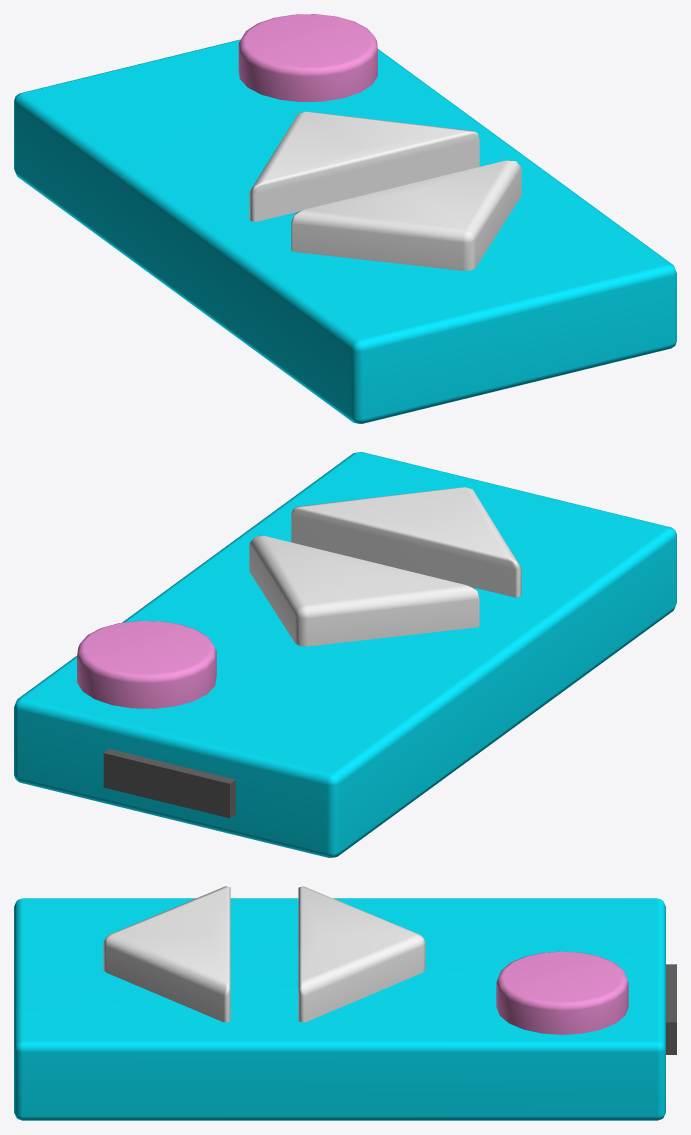
Rendered from LoopDreams_VR_Assets_R4_TVRemote_edit.fbx.
3 renders of one model, top to bottom at view 1: azimuth 30°, elevation 25°; view 2: azimuth 150°, elevation 25°; view 3: azimuth 270°, elevation 25°, orthographic. The views are drawn at different scales.
Visible parts, largest first — view 1: pCube1, pCylinder3, pCylinder2, pCylinder1; view 2: pCube1, pCylinder2, pCylinder3, pCylinder1, pCube2; view 3: pCube1, pCylinder2, pCylinder3, pCylinder1, pCube2.
Boxes of the visible parts, <box> form: pCube1: <box>14,39,676,423</box>; pCylinder3: <box>291,160,521,270</box>; pCylinder2: <box>249,111,479,221</box>; pCylinder1: <box>238,14,377,101</box>; pCube1: <box>14,452,676,857</box>; pCylinder2: <box>249,535,479,646</box>; pCylinder3: <box>291,487,521,597</box>; pCylinder1: <box>77,620,216,708</box>; pCube2: <box>103,749,235,818</box>; pCube1: <box>14,898,665,1120</box>; pCylinder2: <box>298,886,425,1022</box>; pCylinder3: <box>103,886,230,1022</box>; pCylinder1: <box>496,951,628,1034</box>; pCube2: <box>666,964,676,1054</box>.
Bounding box in the file's own units: 160 × 57.51 × 301.
